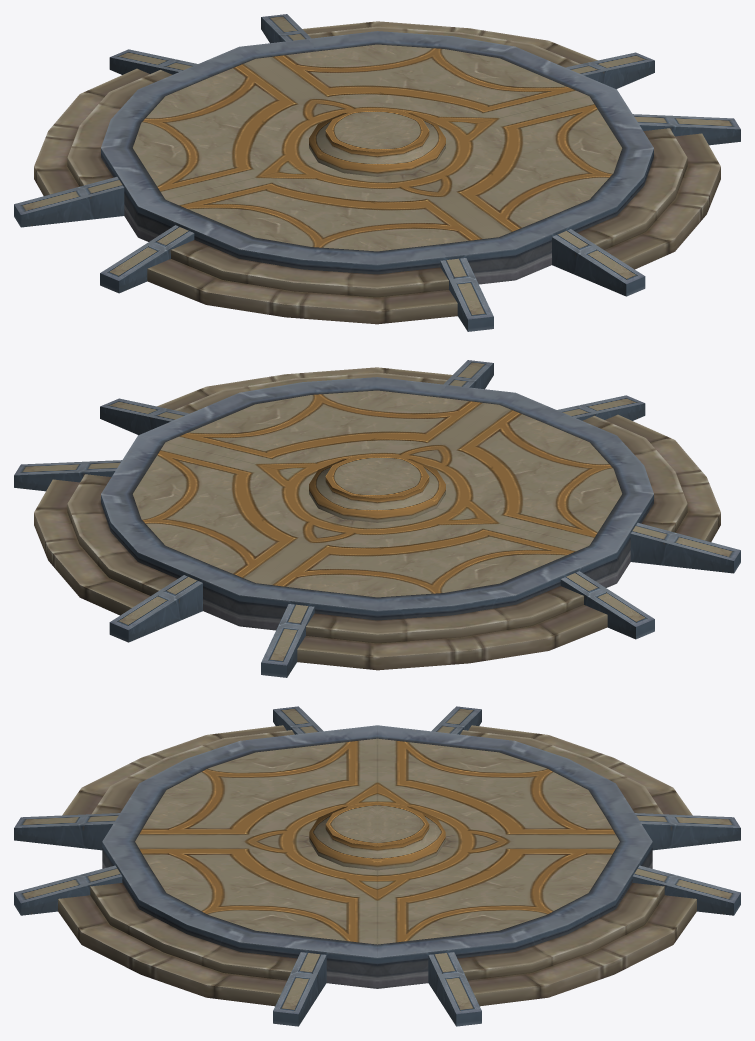
Rendered from Battle04_Table_01.FBX.
3 renders of one model, top to bottom at view 1: azimuth 30°, elevation 25°; view 2: azimuth 150°, elevation 25°; view 3: azimuth 270°, elevation 25°, orthographic.
Parts seen in each view (by area): view 1: Battle04_Table_01; view 2: Battle04_Table_01; view 3: Battle04_Table_01.
Part boxes in pixels (box(x1,y1,x2,y2)): Battle04_Table_01: box(14, 14, 740, 331); Battle04_Table_01: box(14, 360, 740, 677); Battle04_Table_01: box(14, 706, 740, 1026).
Size of the model in its own units: 21.88 by 1.61 by 21.83.
